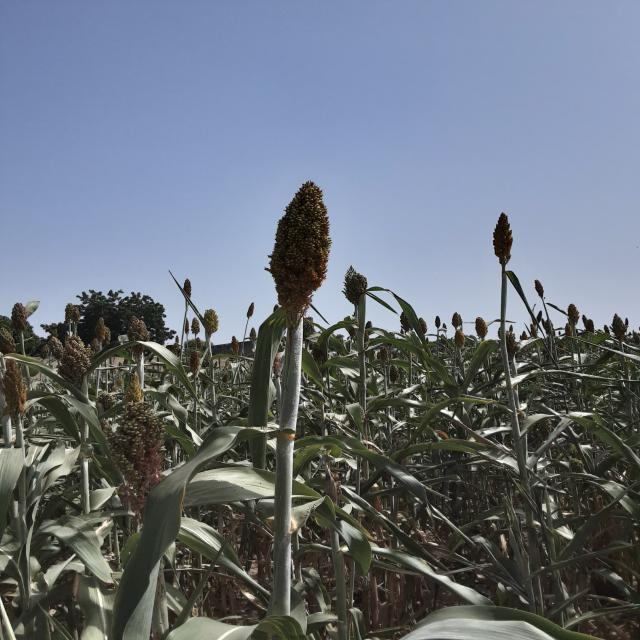UnripeSorghum: (247, 172, 347, 305)
